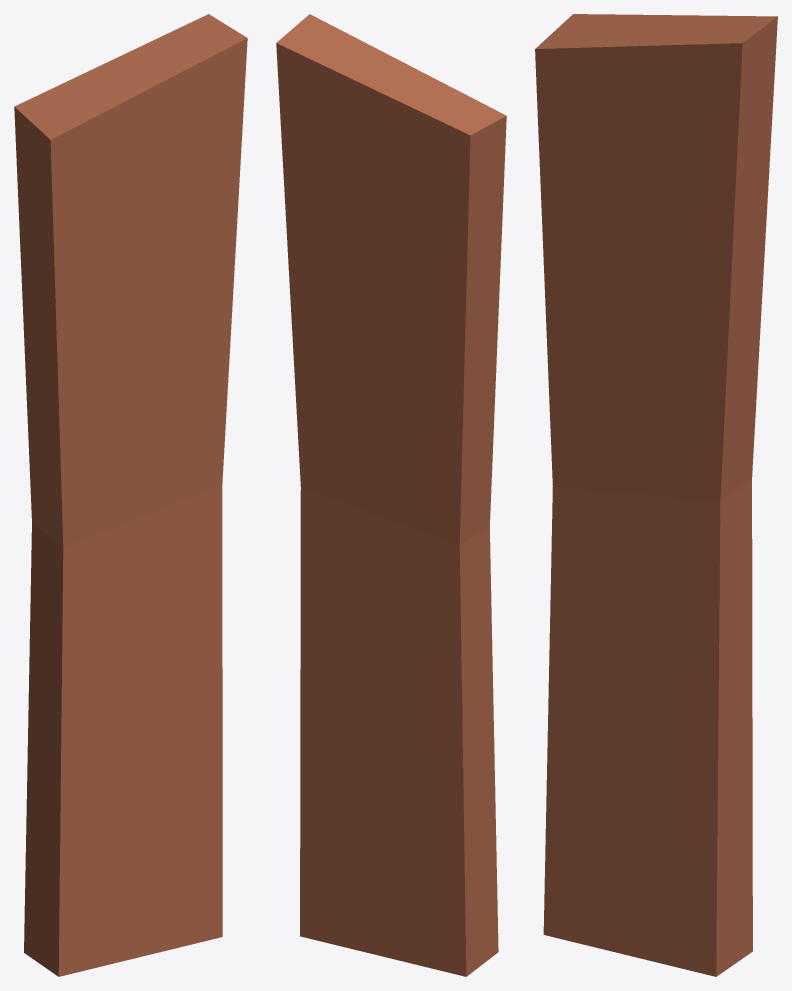
File: Plank 09.fbx
3 renders of one model, left to right at view 1: azimuth 30°, elevation 25°; view 2: azimuth 150°, elevation 25°; view 3: azimuth 330°, elevation 25°, orthographic. The views are drawn at different scales.
Visible parts, largest first — view 1: Plank 09; view 2: Plank 09; view 3: Plank 09.
Part boxes in pixels (<box>): Plank 09: <box>14,14,247,976</box>; Plank 09: <box>276,14,506,976</box>; Plank 09: <box>535,14,777,976</box>.
Bounding box in the file's own units: 23.4 × 101 × 7.46.
